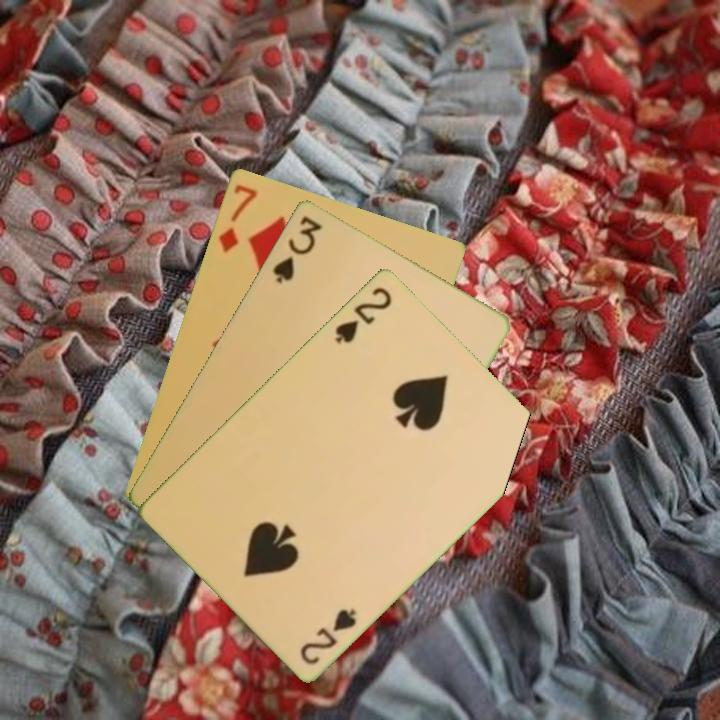2s: (331, 283, 395, 347), (296, 604, 359, 667)
3s: (269, 211, 325, 286)
7d: (214, 180, 260, 256)
